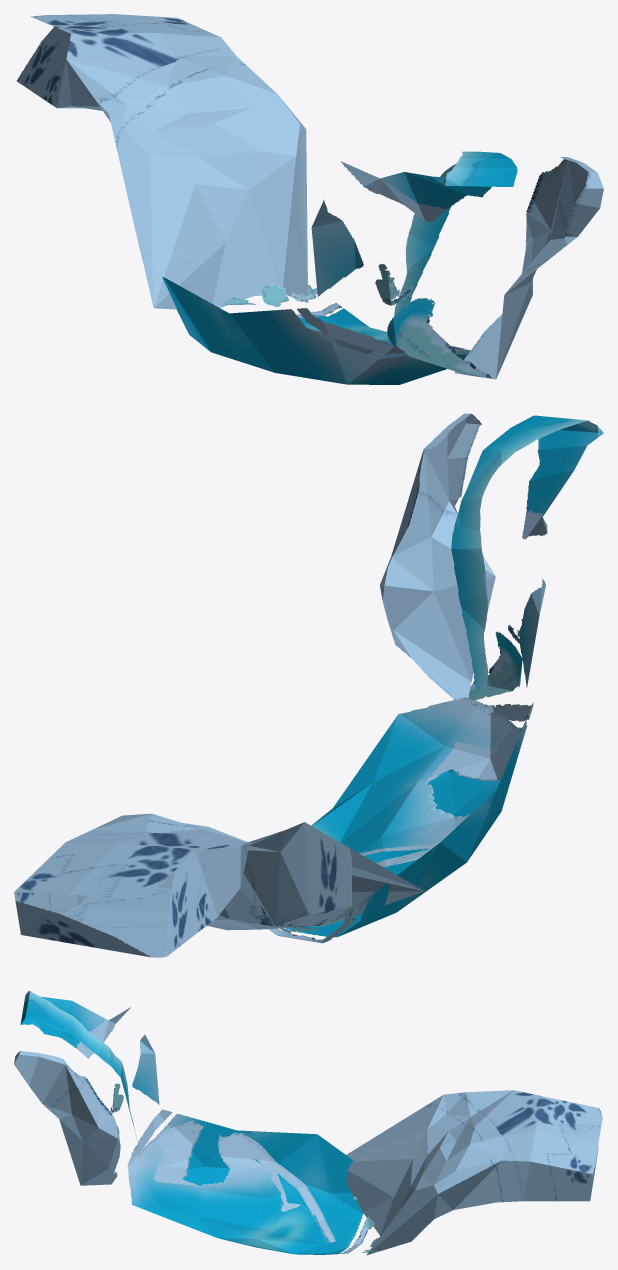
File: fondolago copia.obj
3 renders of one model, top to bottom at view 1: azimuth 30°, elevation 25°; view 2: azimuth 150°, elevation 25°; view 3: azimuth 270°, elevation 25°, orthographic. The views are drawn at different scales.
Bounding box in the file's own units: 122 × 178 × 409.
Materials: 1 (1 with a texture image).
